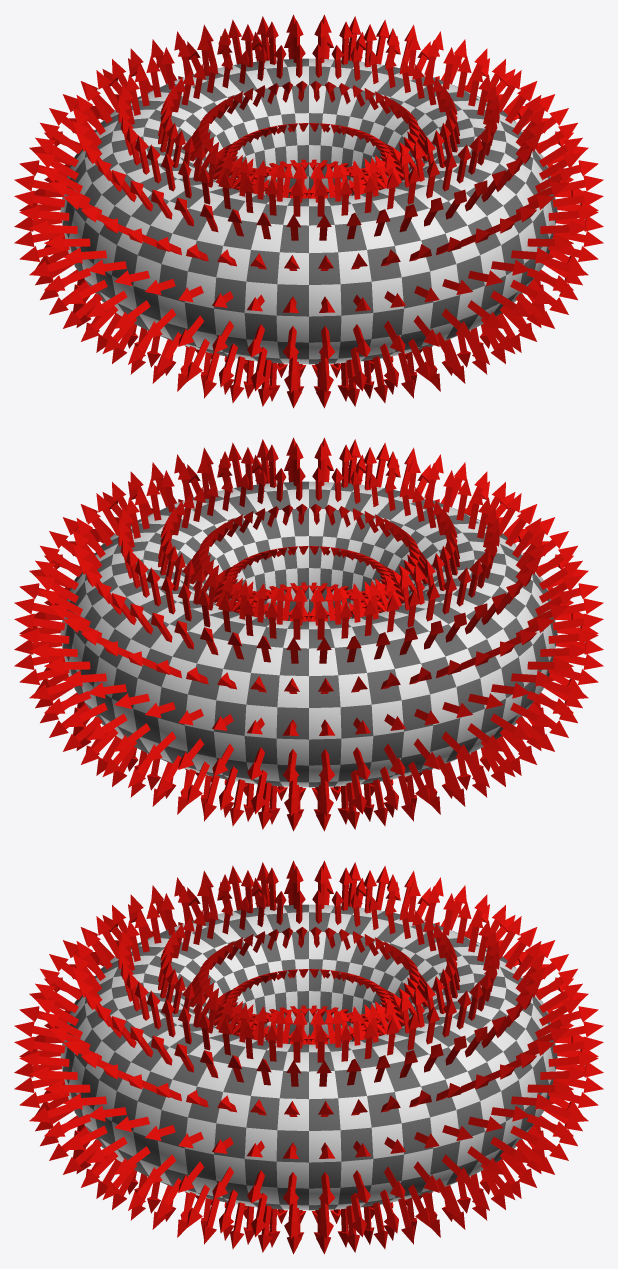
3 views of the same model, one above another, from view 1: azimuth 30°, elevation 25°; view 2: azimuth 150°, elevation 25°; view 3: azimuth 270°, elevation 25° (orthographic).
Visible parts, largest first — view 1: Torus; view 2: Torus; view 3: Torus.
Boxes of the visible parts, box(x1,y1,x2,y2) form: Torus: box(60, 58, 557, 364); Torus: box(60, 481, 557, 787); Torus: box(60, 904, 557, 1210).
Size of the model in its own units: 3.56 by 1.49 by 3.56.
